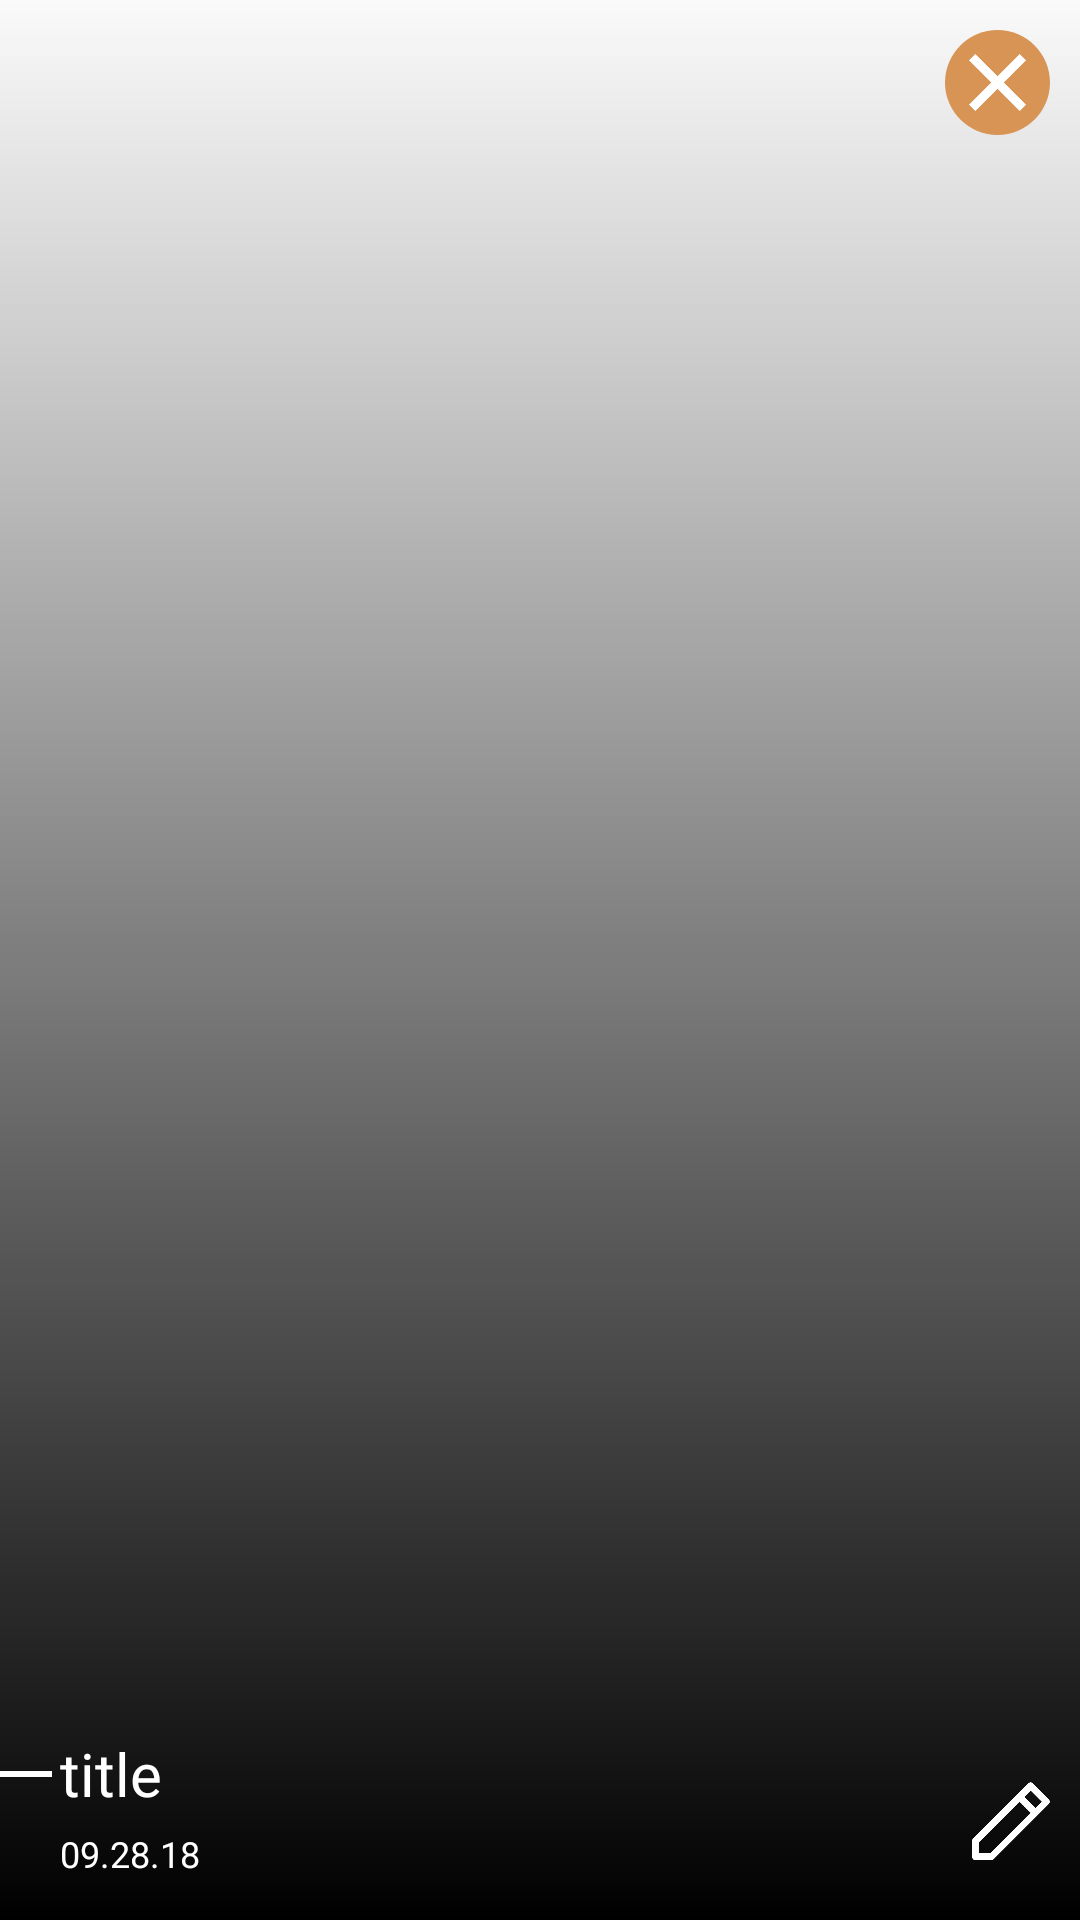

Where icons sit on this 1080px×1920px app screen, as (x1, y1, x2, y2):
pencil: (972, 1782, 1050, 1860)
